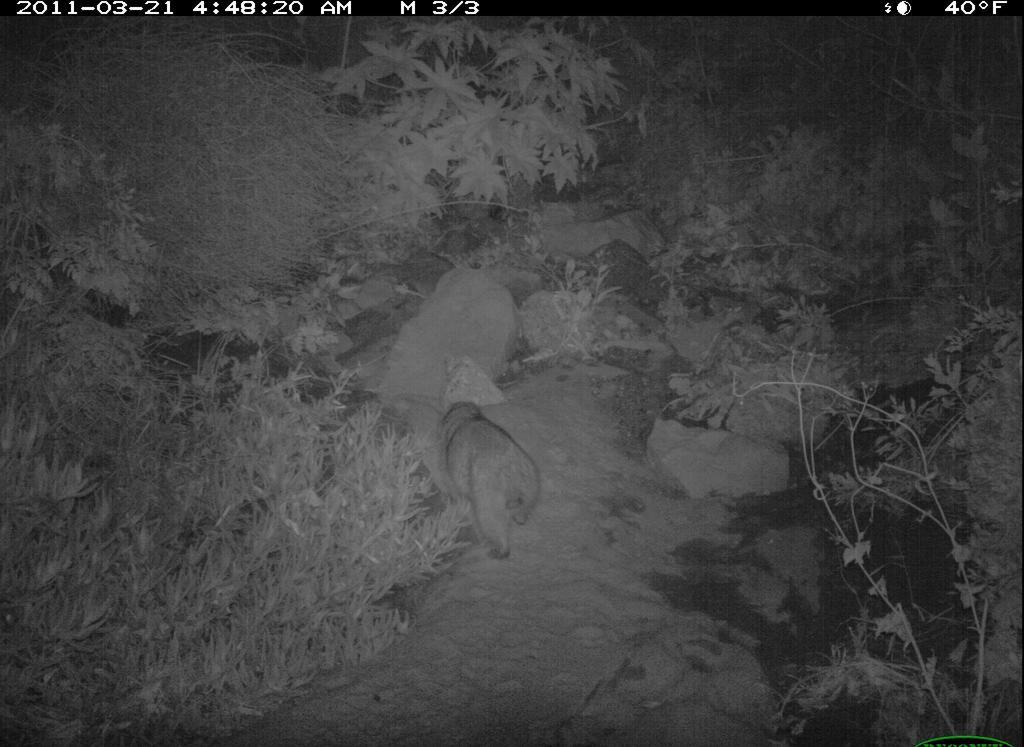raccoon: (437, 396, 551, 566)
